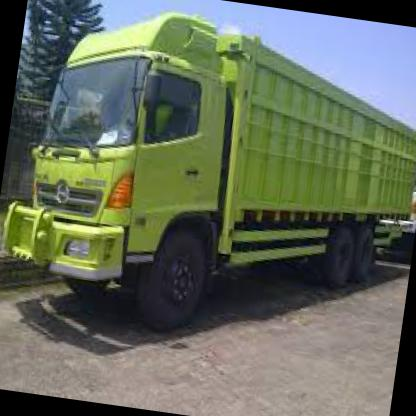truck: (9, 30, 237, 338)
